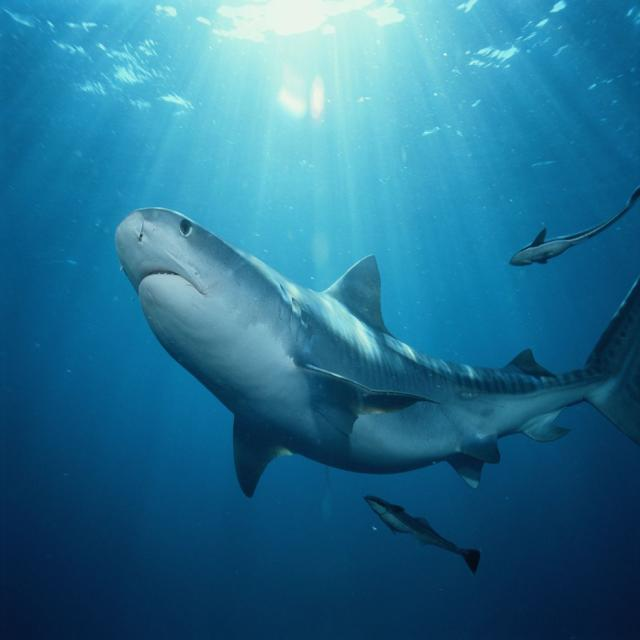shark: (115, 209, 640, 495)
